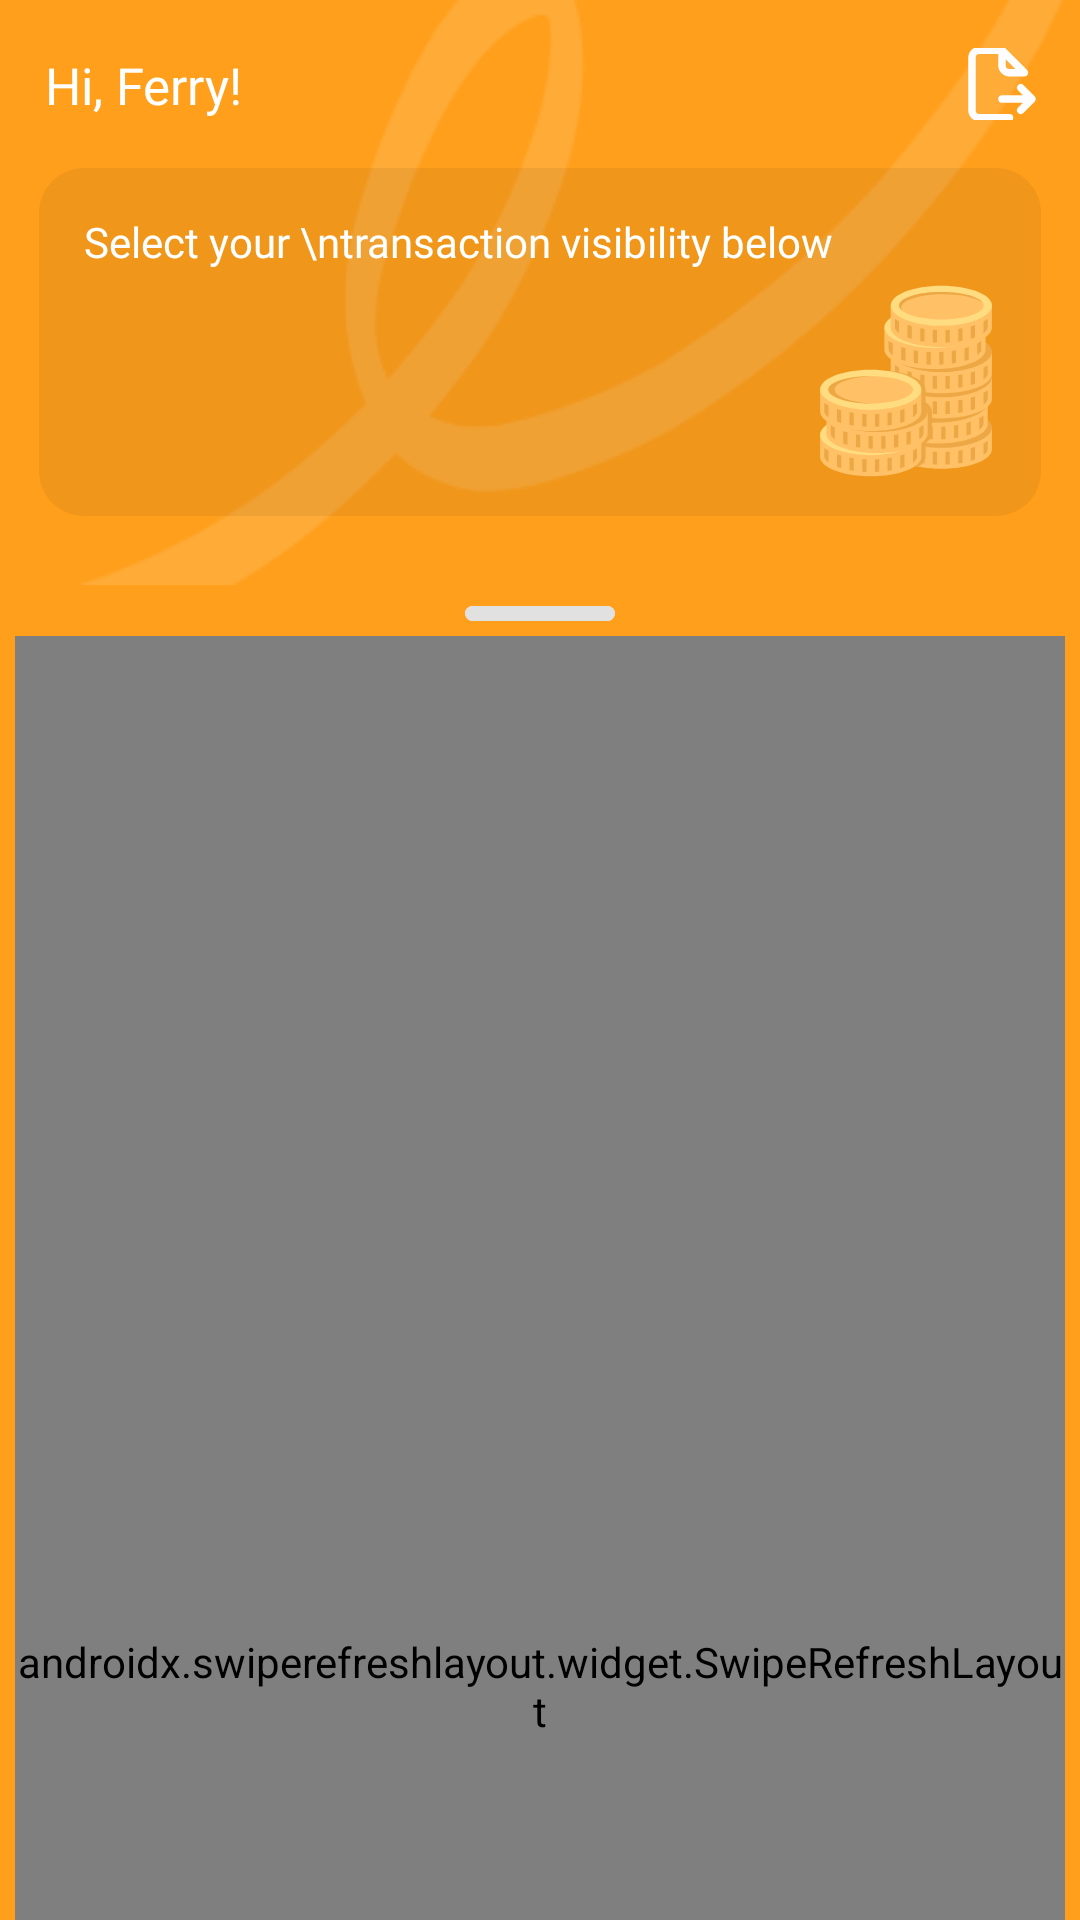

Point at icon controls on the screen. Image size 1080*1920, points as [x,y].
coins: [906,381]
file export: [1002,84]
